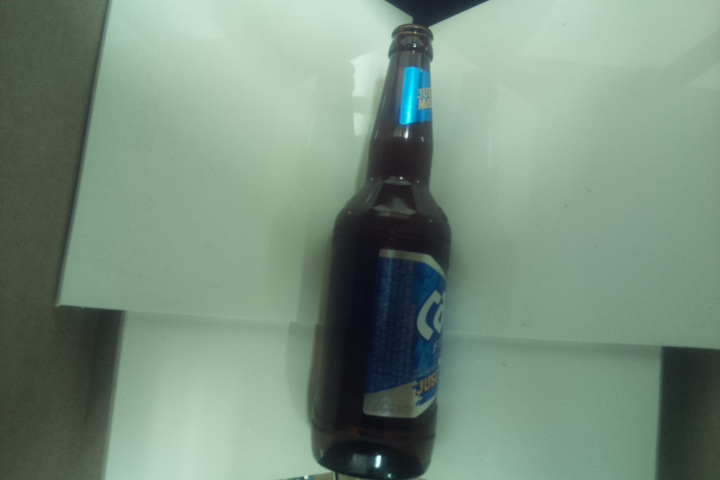makju: (309, 21, 453, 480)
